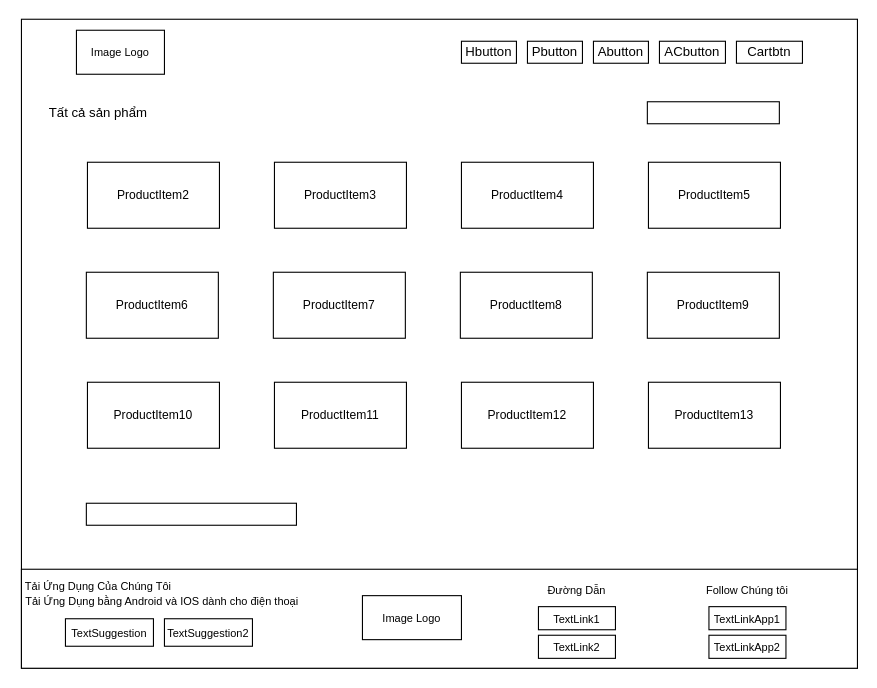
The diagram is 877 pixels wide and 688 high, and some of its shapes have lost their labels. The shapes that lost their labels are listed below. From the top down, each one's centre as x and y in pixels, then its label:
the point at 712,112: cbbPhanLoai
the point at 190,513: btnChuyenTrang
